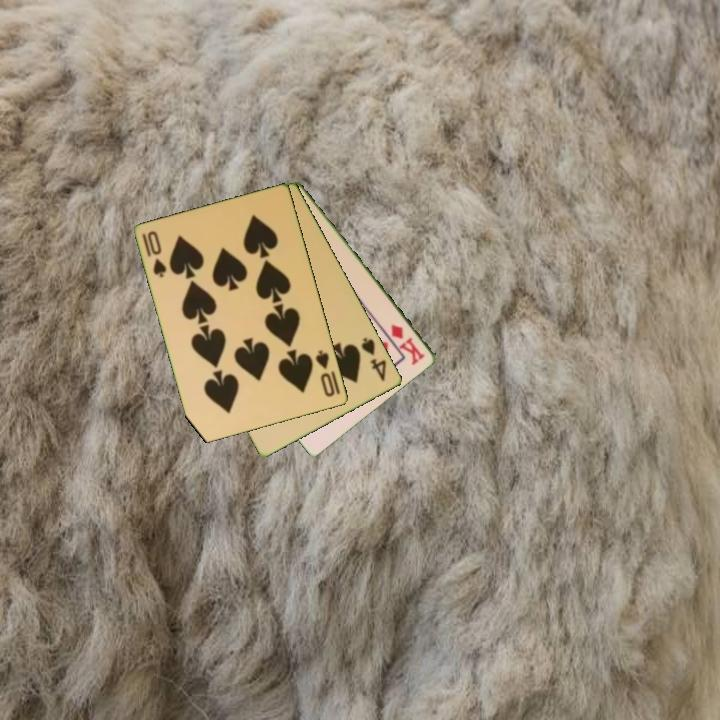10s: (139, 228, 170, 281), (312, 347, 338, 400)
4s: (358, 334, 390, 384)
Kd: (388, 320, 428, 367)
